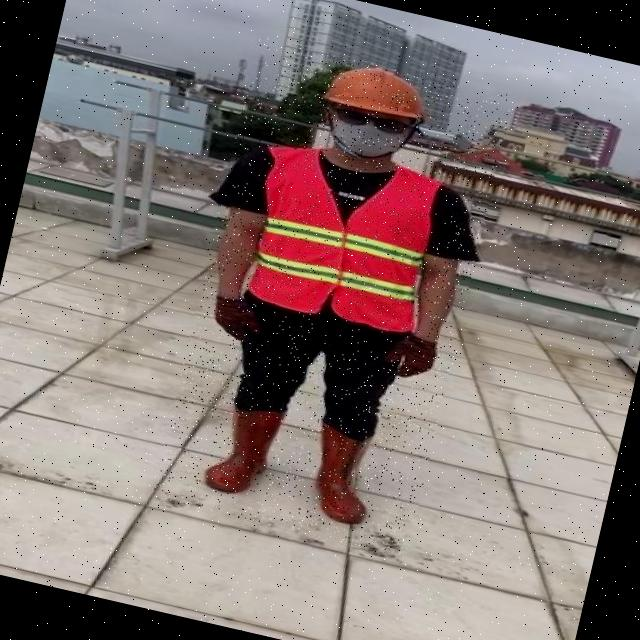boots: (197, 394, 287, 504), (304, 426, 385, 528)
helmet: (315, 54, 440, 129)
vest: (238, 140, 447, 336)
